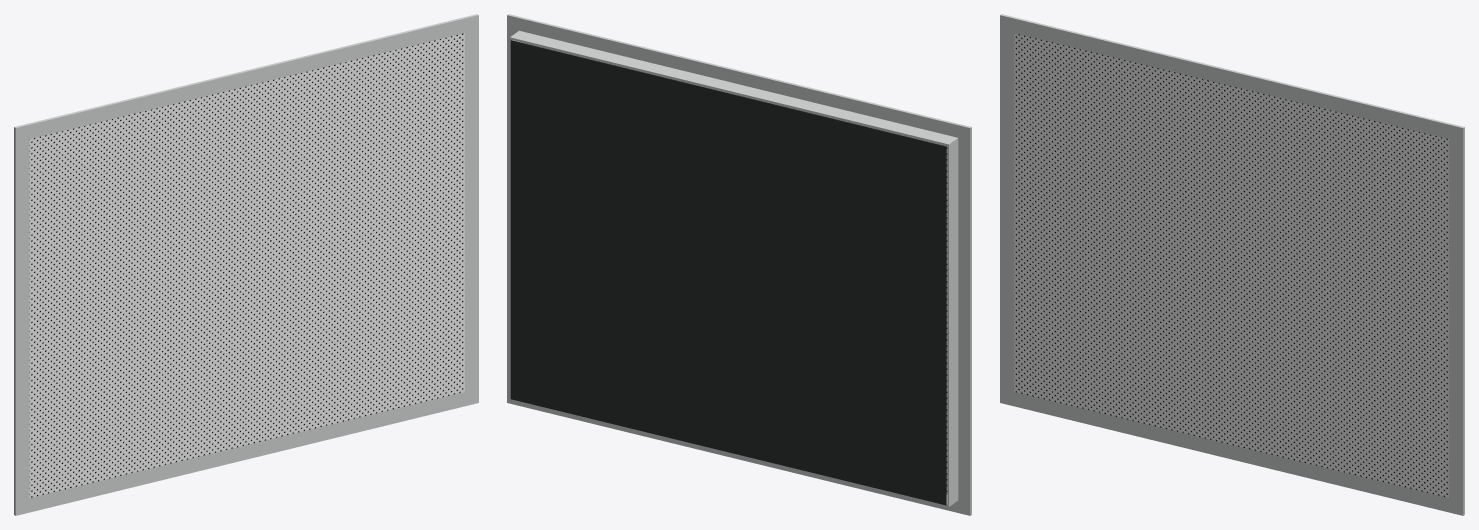
File: ecoclima-egfr-500x400.glb
3 renders of one model, left to right at view 1: azimuth 30°, elevation 25°; view 2: azimuth 150°, elevation 25°; view 3: azimuth 330°, elevation 25°, orthographic.
Parts seen in each view (by area): view 1: Profile_lamiera_forata, Profile_cornice.109, Profile_cornice.110, Profile_cornice.111, Profile_cornice.112; view 2: Interno.031, Profile_cornice.109, Profile_ritorno.116, Profile_cornice.111, Profile_ritorno.118, Profile_cornice.110, Profile_lamiera_forata, Profile_cornice.112, Profile_ritorno.117; view 3: Profile_lamiera_forata, Profile_cornice.109, Profile_cornice.110, Profile_cornice.112, Profile_cornice.111.
Boxes of the visible parts, x1,y1,x2,y2 form: Profile_lamiera_forata: [29, 33, 464, 497]; Profile_cornice.109: [14, 14, 478, 142]; Profile_cornice.110: [14, 388, 478, 515]; Profile_cornice.111: [14, 139, 29, 501]; Profile_cornice.112: [465, 29, 478, 391]; Interno.031: [510, 40, 946, 505]; Profile_cornice.109: [507, 14, 971, 142]; Profile_ritorno.116: [510, 30, 958, 146]; Profile_cornice.111: [958, 140, 971, 501]; Profile_ritorno.118: [947, 140, 958, 504]; Profile_cornice.110: [507, 388, 971, 515]; Profile_lamiera_forata: [522, 42, 947, 494]; Profile_cornice.112: [507, 29, 521, 388]; Profile_ritorno.117: [510, 398, 958, 506]; Profile_lamiera_forata: [1014, 33, 1449, 497]; Profile_cornice.109: [1000, 14, 1464, 142]; Profile_cornice.110: [1000, 388, 1464, 515]; Profile_cornice.112: [1449, 139, 1464, 501]; Profile_cornice.111: [1000, 29, 1013, 391].
Size of the model in its own units: 0.5 by 0.4 by 0.022.
3 materials, 1 textured.
